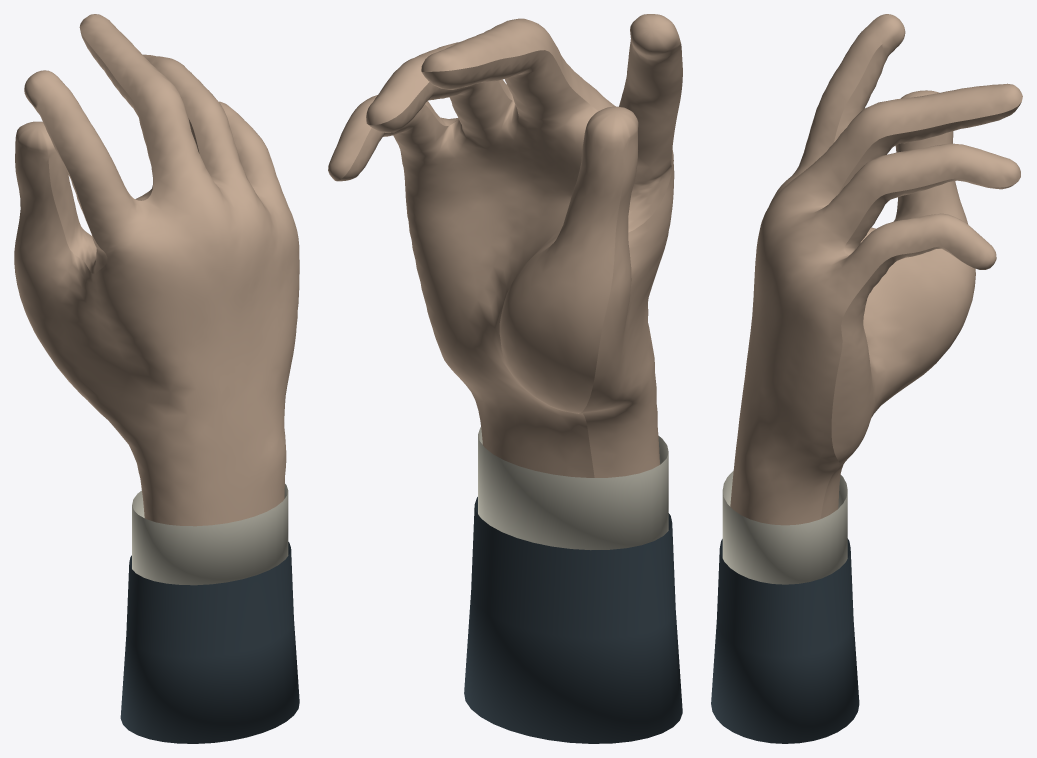
File: hand-payment.glb
3 views of the same model, side by side, from view 1: azimuth 30°, elevation 25°; view 2: azimuth 150°, elevation 25°; view 3: azimuth 270°, elevation 25° (orthographic). The views are drawn at different scales.
Parts seen in each view (by area): view 1: webxr-payment-skin, short-payment-cuff, shirt-cuff; view 2: webxr-payment-skin, short-payment-cuff, shirt-cuff; view 3: webxr-payment-skin, short-payment-cuff, shirt-cuff.
Boxes of the visible parts, box(x1,y1,x2,y2) form: webxr-payment-skin: box(14, 14, 299, 526); short-payment-cuff: box(120, 542, 299, 743); shirt-cuff: box(132, 484, 288, 585); webxr-payment-skin: box(328, 14, 682, 477); short-payment-cuff: box(464, 497, 682, 743); shirt-cuff: box(478, 427, 668, 550); webxr-payment-skin: box(730, 14, 1022, 525); short-payment-cuff: box(711, 538, 859, 743); shirt-cuff: box(722, 471, 847, 584).
Size of the model in its own units: 0.0974 by 0.2392 by 0.1072.
